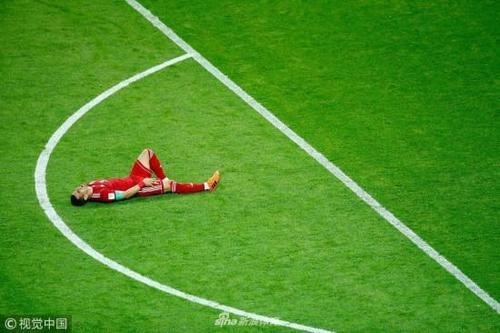falling: (67, 145, 228, 212)
